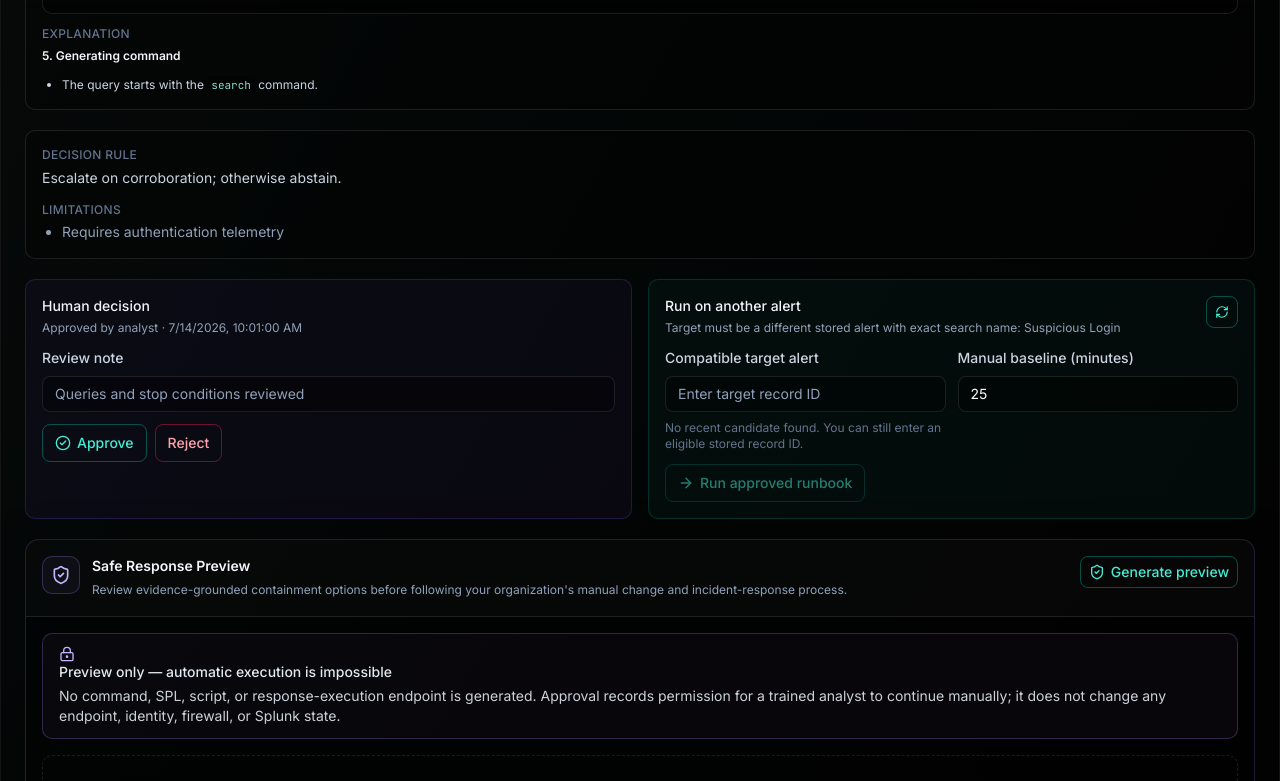
Test case: VerifiedRunbookPanel › runs an approved draft on a target and shows measured savings
(page scrolled)
Type "8" into the field labelled "Compatible target alert" at (805, 394), box [665, 376, 946, 412]
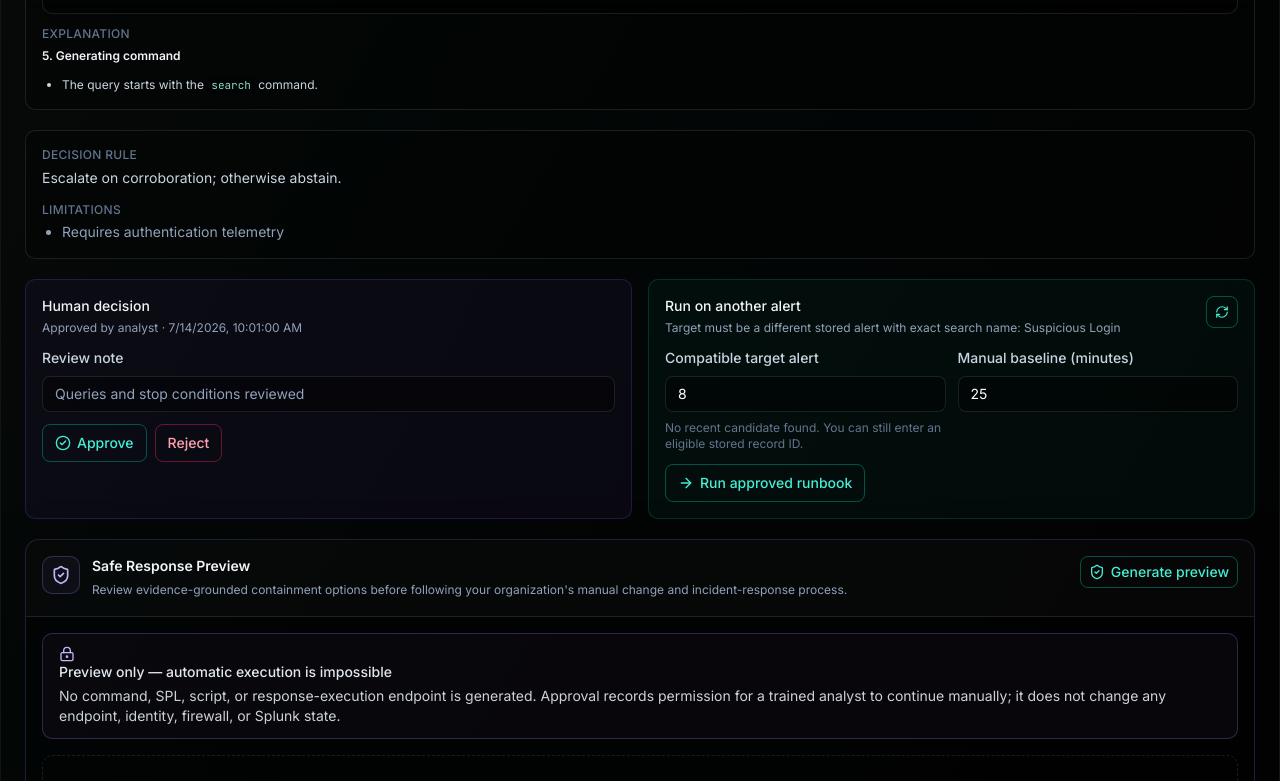
Click the button "Run approved runbook" at (765, 483), box [665, 464, 865, 502]
(page scrolled)
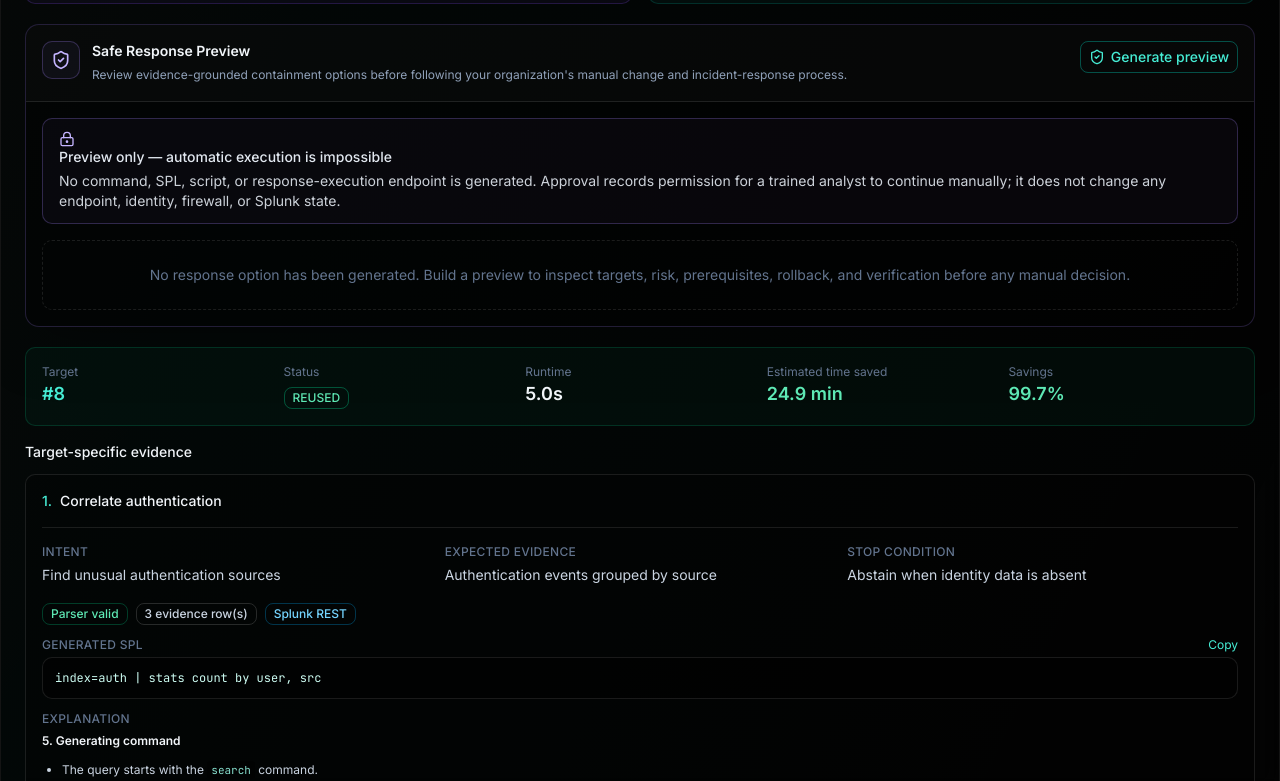
Expected: the text "24.9 min" is shown, [767, 383, 843, 404]
Expected: the link "#8" is shown, [42, 383, 65, 404]
